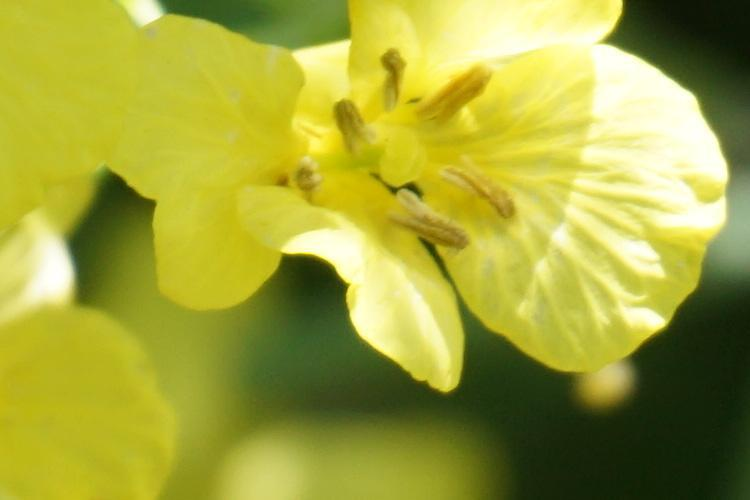yellow: (117, 43, 715, 377)
